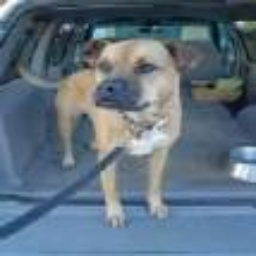dog: (24, 37, 193, 227)
